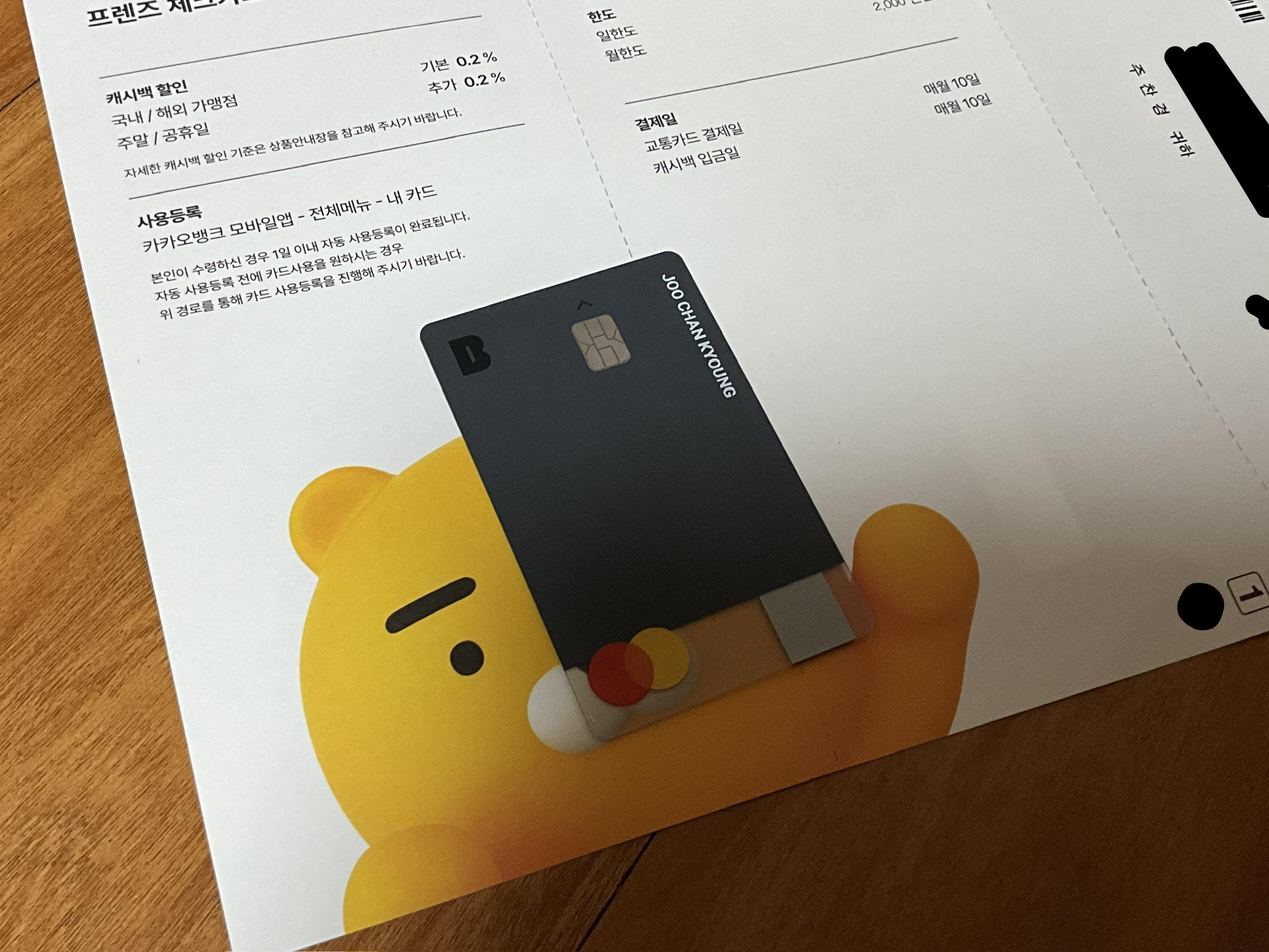Credit_card: (421, 252, 871, 741)
